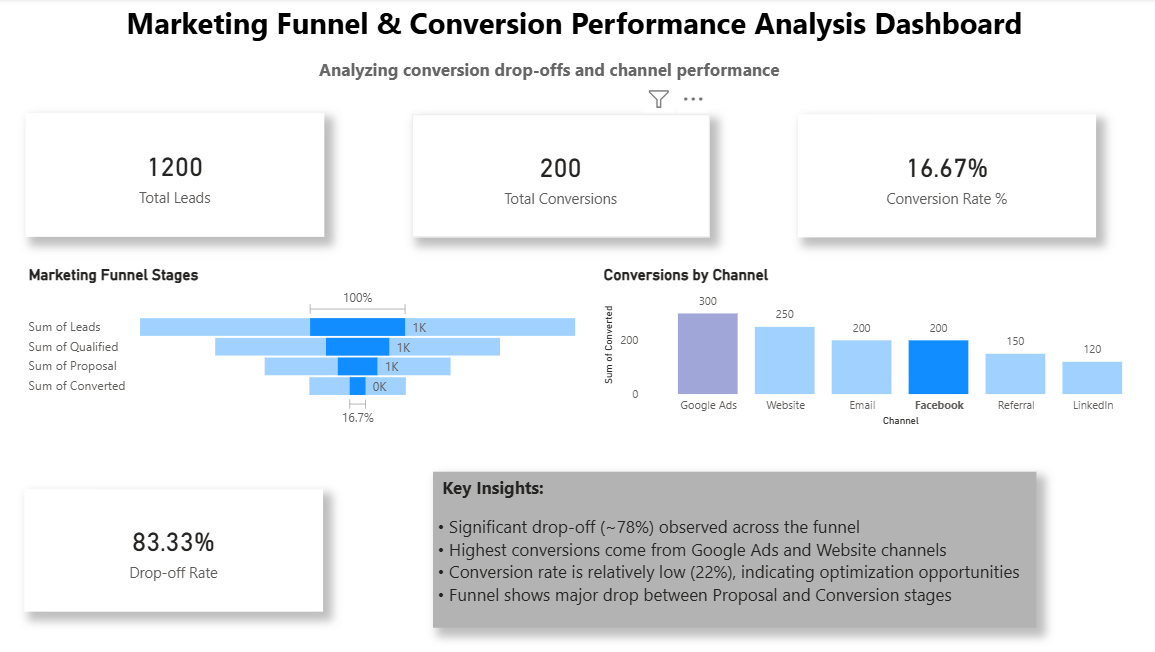

What the dashboard file says about the page in this screenshot:
{"tool":"powerbi","page":{"name":"Page 1","canvas":[1280,720],"ordinal":0},"visuals":[{"type":"card","fields":{"Values":["Sum(marketing_funnel_dataset.Leads)"]},"box":[34.3,127.6,328,135.8],"z":0},{"type":"card","fields":{"Values":["Sum(marketing_funnel_dataset.Converted)"]},"box":[459.5,127.6,327,135],"z":1000},{"type":"card","fields":{"Values":["marketing_funnel_dataset.Conversion Rate %"]},"box":[883.7,127.6,327,135],"z":2000},{"type":"textbox","box":[34.3,0,1181.5,60.4],"z":3000},{"type":"textbox","box":[20.6,60.4,1180.1,41.2],"z":4000},{"type":"funnel","title":"Marketing Funnel Stages","fields":{"Y":["Sum(marketing_funnel_dataset.Leads)","Sum(marketing_funnel_dataset.Qualified)","Sum(marketing_funnel_dataset.Proposal)","Sum(marketing_funnel_dataset.Converted)"]},"box":[34.3,293.7,615,181.1],"z":5000},{"type":"clusteredColumnChart","title":"Conversions by Channel","fields":{"Category":["marketing_funnel_dataset.Channel"],"Y":["Sum(marketing_funnel_dataset.Converted)"]},"box":[665.5,293.7,615,181.1],"z":6000},{"type":"card","fields":{"Values":["marketing_funnel_dataset.Drop-off Rate"]},"box":[34.3,539.3,328,134.5],"z":7000},{"type":"textbox","box":[483,520.1,662.8,171.5],"z":8000}]}

Visuals, with their boxes in screenshot pixels (x1, y1, x2, y2), scaled from the page's 1280x720 canvas onto the 1155x652 screenshot:
card - Sum(marketing_funnel_dataset.Leads): [x1=31, y1=116, x2=327, y2=239]
card - Sum(marketing_funnel_dataset.Converted): [x1=415, y1=116, x2=710, y2=238]
card - marketing_funnel_dataset.Conversion Rate %: [x1=797, y1=116, x2=1092, y2=238]
textbox: [x1=31, y1=0, x2=1097, y2=55]
textbox: [x1=19, y1=55, x2=1083, y2=92]
"Marketing Funnel Stages" funnel: [x1=31, y1=266, x2=586, y2=430]
"Conversions by Channel" clusteredColumnChart: [x1=601, y1=266, x2=1154, y2=430]
card - marketing_funnel_dataset.Drop-off Rate: [x1=31, y1=488, x2=327, y2=610]
textbox: [x1=436, y1=471, x2=1034, y2=626]
